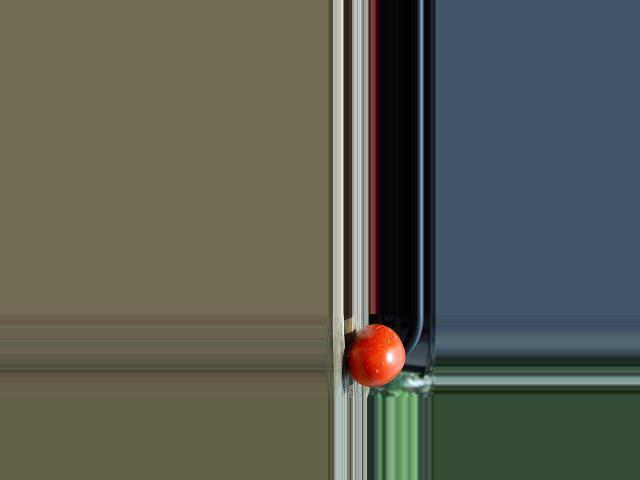tomato: (348, 324, 405, 387)
